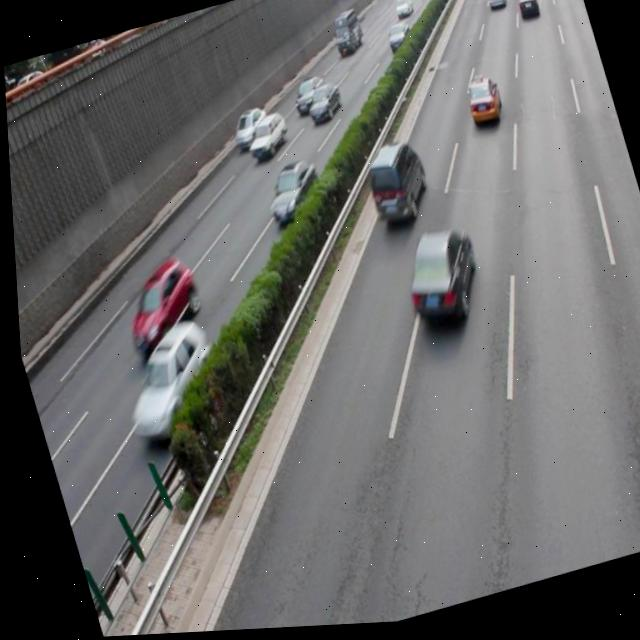car: (100, 315, 227, 447), (387, 222, 485, 335), (108, 253, 207, 357), (254, 157, 324, 229), (458, 78, 504, 135), (238, 112, 289, 162), (225, 105, 272, 154), (300, 83, 344, 127)
truck: (355, 137, 433, 233)
